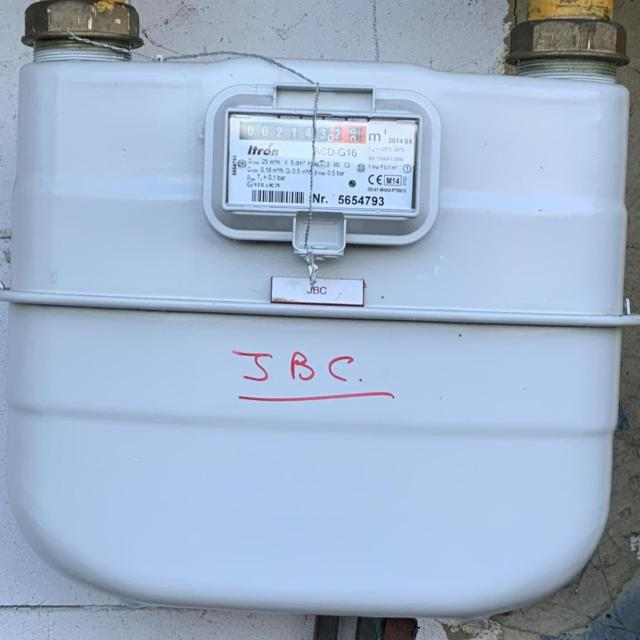gaz_meter: (228, 110, 414, 213)
indication: (239, 120, 367, 145)
